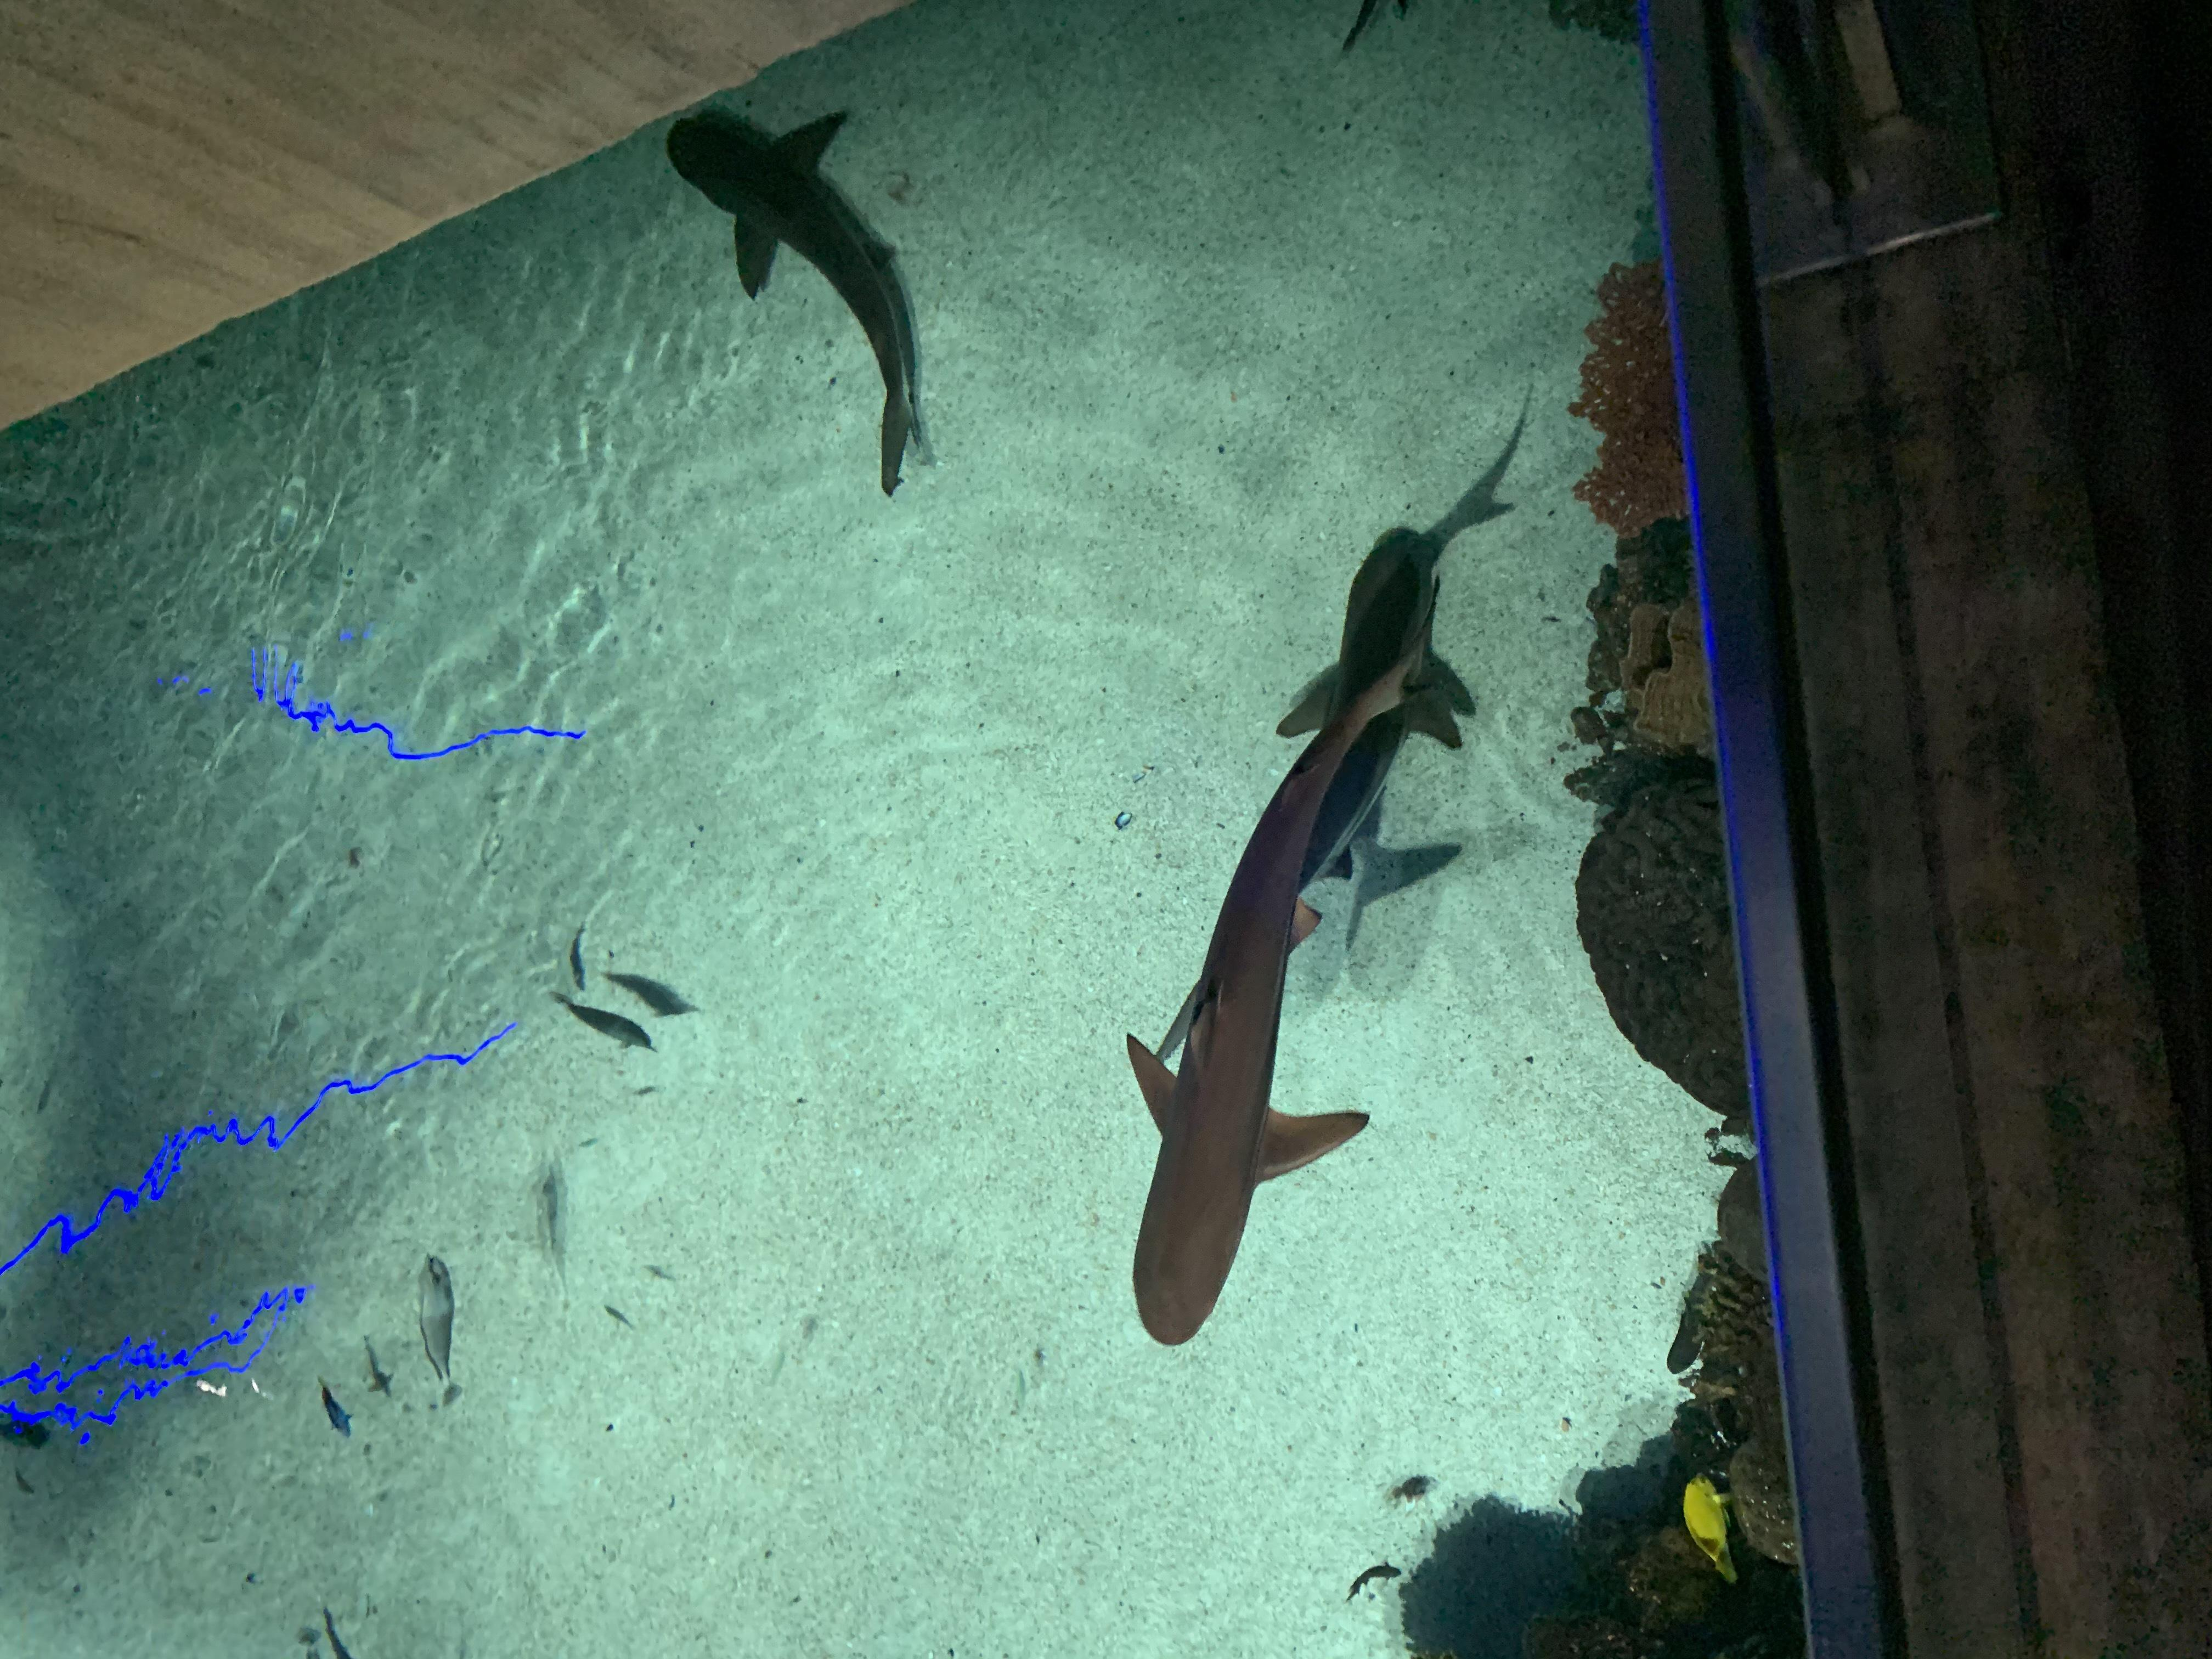fish: (415, 1251, 467, 1408), (1681, 1467, 1738, 1588), (550, 990, 653, 1054), (1348, 1558, 1407, 1601), (319, 1377, 354, 1439), (566, 924, 592, 988)
shark: (1099, 608, 1446, 1378), (1209, 516, 1480, 993), (658, 92, 944, 511)
